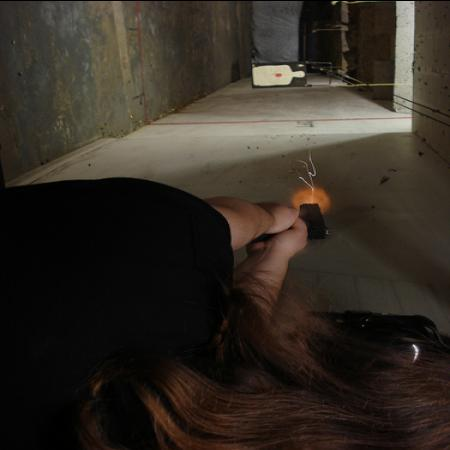Pistol: (253, 200, 331, 243)
